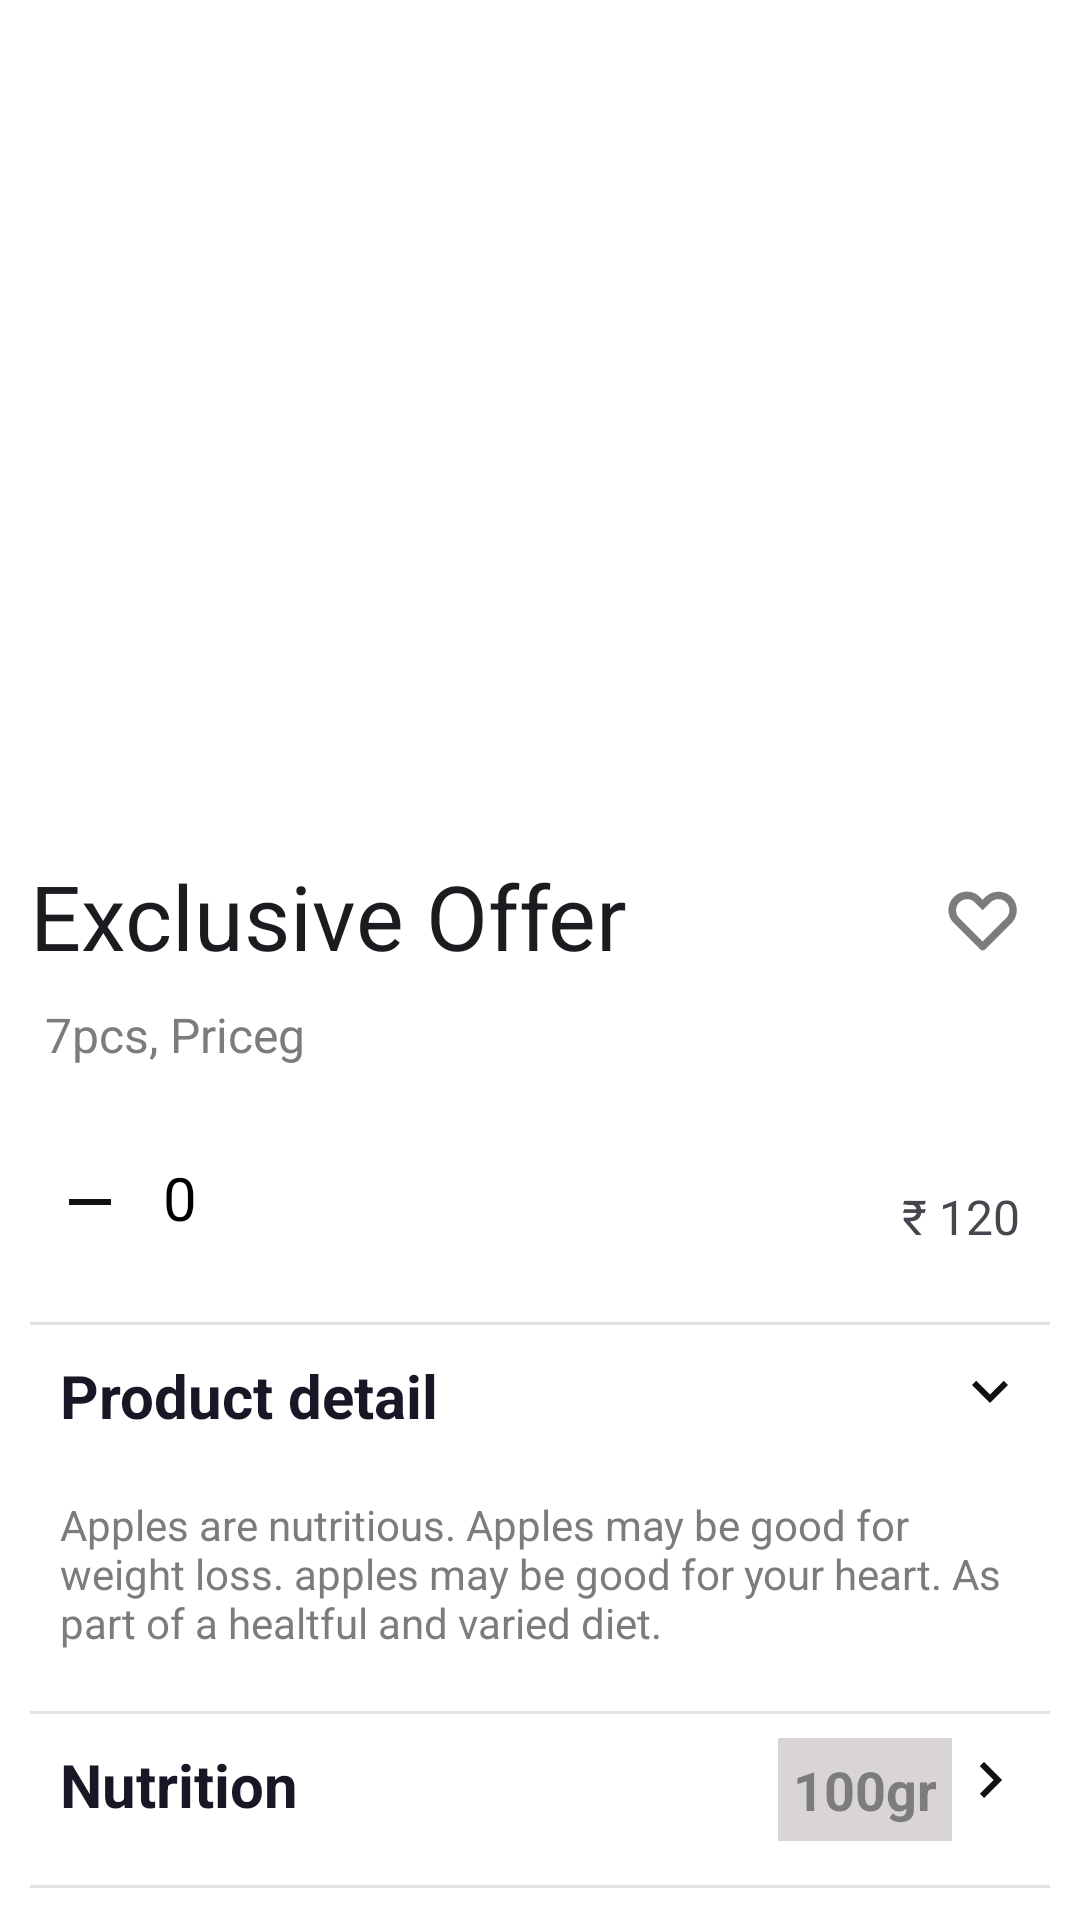

Screen size 1080 × 1920. Icon name, then its center in pixels as (x,y):
expand: (990,1392)
favourite: (982,921)
